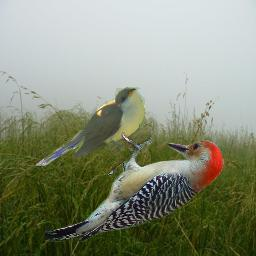Cuckoo: (34, 87, 145, 166)
Woodpecker: (45, 132, 227, 245)
